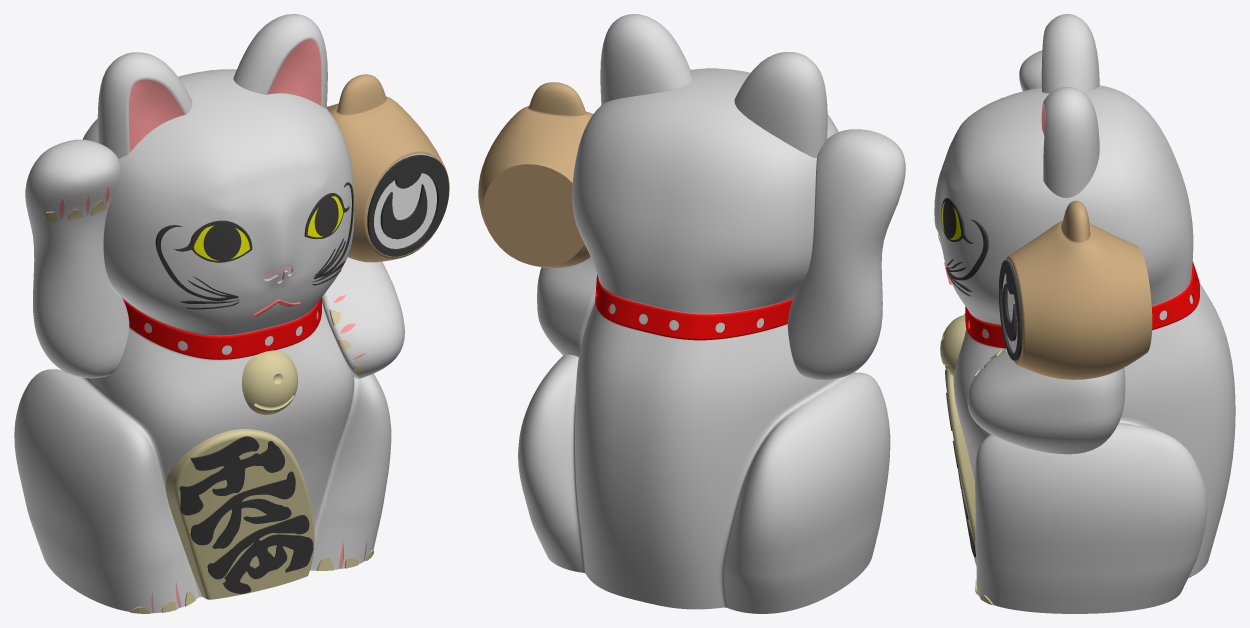
3 views of the same model, side by side, from view 1: azimuth 30°, elevation 25°; view 2: azimuth 150°, elevation 25°; view 3: azimuth 270°, elevation 25° (orthographic). The views are drawn at different scales.
Visible parts, largest first — view 1: 002_manekineko; view 2: 002_manekineko; view 3: 002_manekineko.
Boxes of the visible parts, x1=… form: 002_manekineko: x1=14, y1=14, x2=449, y2=613; 002_manekineko: x1=478, y1=14, x2=905, y2=613; 002_manekineko: x1=934, y1=14, x2=1235, y2=613.
Bounding box in the file's own units: 0.1727 × 0.2098 × 0.1158.
